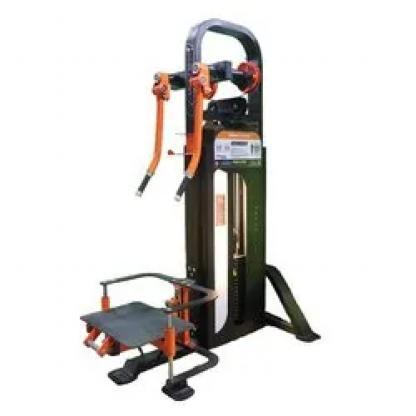lateral raises machine: (81, 20, 321, 401)
